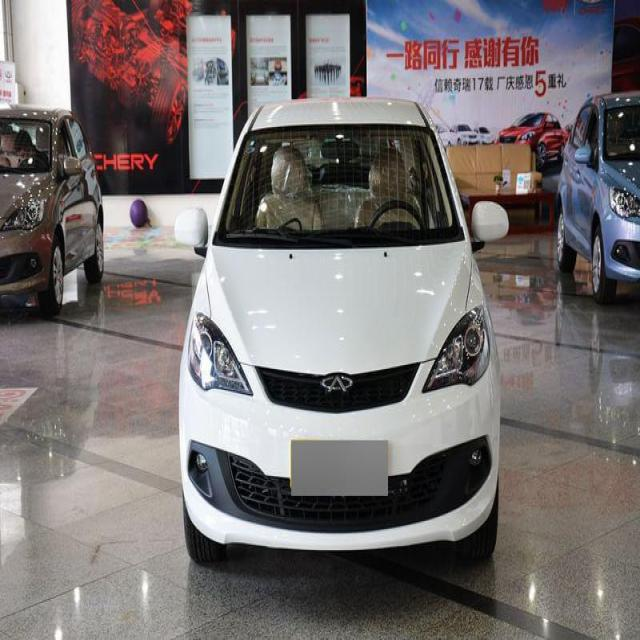front_bumper: (178, 368, 500, 552)
front_glass: (213, 123, 464, 249)
front_left_side_light: (422, 300, 491, 397)
front_left_side_mirror: (470, 198, 511, 252)
front_right_side_light: (187, 311, 254, 399)
front_right_side_mirror: (174, 198, 210, 254)
